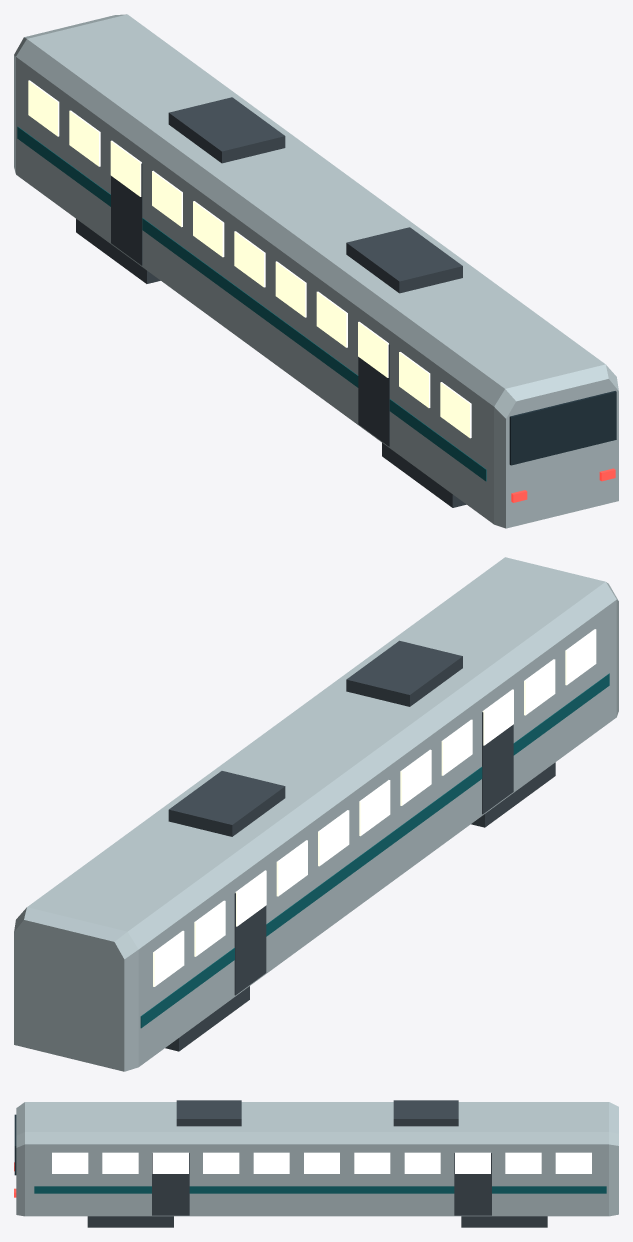
File: jr-tail.glb
3 renders of one model, top to bottom at view 1: azimuth 30°, elevation 25°; view 2: azimuth 150°, elevation 25°; view 3: azimuth 270°, elevation 25°, orthographic. The views are drawn at different scales.
Bounding box in the file's own units: 2.88 × 3.67 × 19.57.
